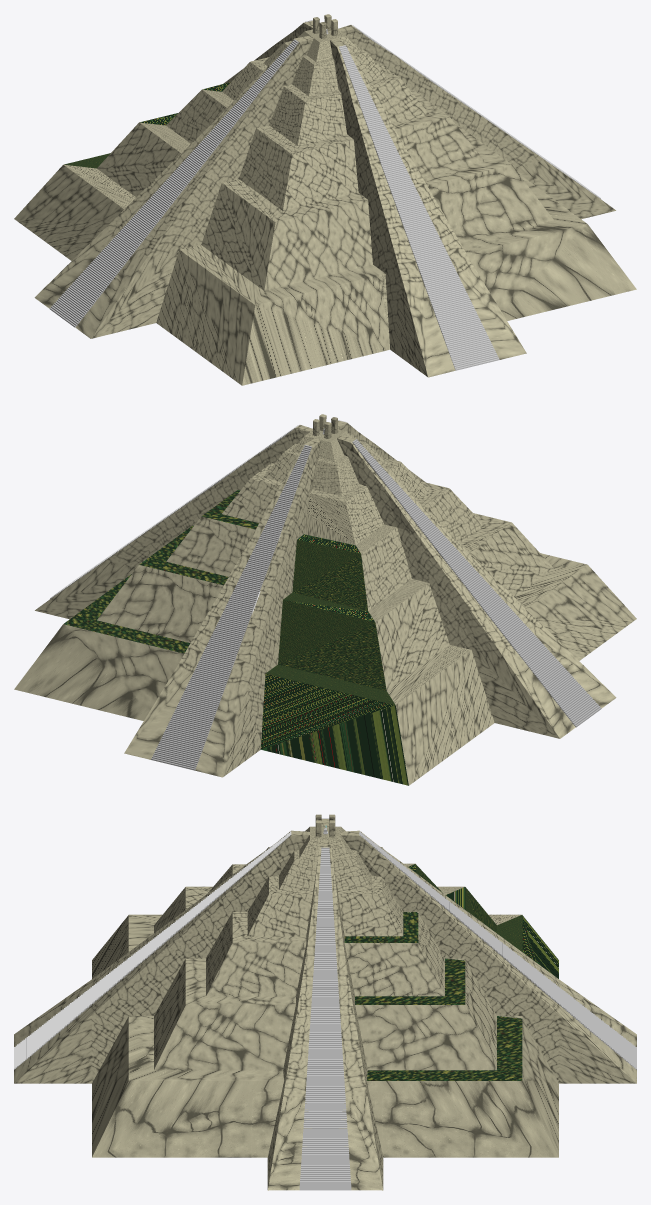
Rendered from ANIMAÇÃO_Templo_Cristal.fbx.
The picture shows the model from 3 angles, top to bottom: view 1: azimuth 30°, elevation 25°; view 2: azimuth 150°, elevation 25°; view 3: azimuth 270°, elevation 25°; orthographic projection. The views are drawn at different scales.
Parts seen in each view (by area): view 1: Plane, Stairs, Stairs.004, Stairs.003; view 2: Plane, Stairs.001, Stairs.004, Stairs.003; view 3: Plane, Stairs.003, Stairs, Stairs.001.
Boxes of the visible parts, x1=… form: Plane: x1=14, y1=14, x2=636, y2=385; Stairs: x1=339, y1=45, x2=499, y2=370; Stairs.004: x1=49, y1=39, x2=298, y2=327; Stairs.003: x1=352, y1=25, x2=600, y2=198; Plane: x1=14, y1=414, x2=636, y2=785; Stairs.001: x1=151, y1=445, x2=311, y2=770; Stairs.004: x1=352, y1=439, x2=601, y2=727; Stairs.003: x1=50, y1=425, x2=298, y2=598; Plane: x1=14, y1=814, x2=636, y2=1190; Stairs.003: x1=299, y1=847, x2=351, y2=1190; Stairs: x1=14, y1=831, x2=291, y2=1069; Stairs.001: x1=359, y1=831, x2=636, y2=1069.
Bounding box in the file's own units: 11990 × 5123 × 12004.
